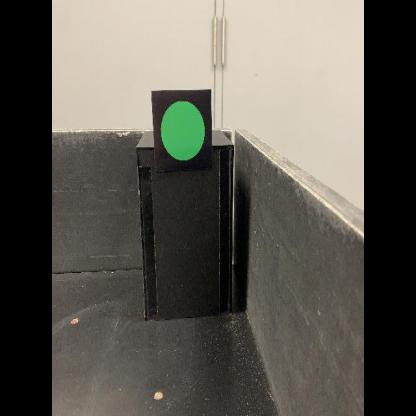go: (151, 88, 214, 173)
